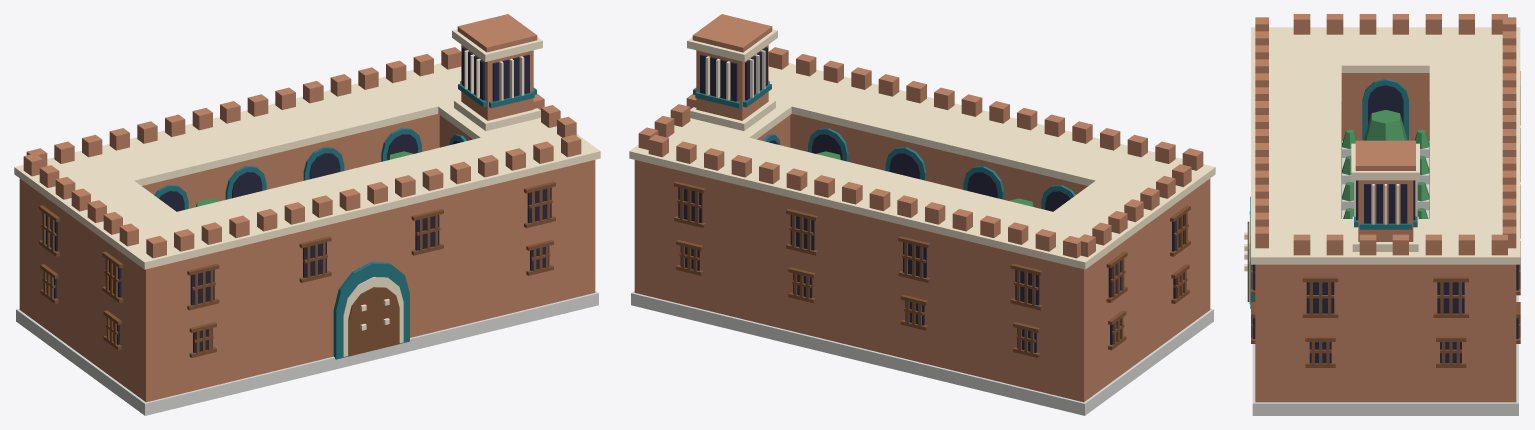
The model's file is house-2x1-2f-riad-a.glb.
3 renders of one model, left to right at view 1: azimuth 30°, elevation 25°; view 2: azimuth 150°, elevation 25°; view 3: azimuth 270°, elevation 25°, orthographic. The views are drawn at different scales.
Parts seen in each view (by area): view 1: house-2x1-2f-riad-a; view 2: house-2x1-2f-riad-a; view 3: house-2x1-2f-riad-a.
Part boxes in pixels (<box>): house-2x1-2f-riad-a: <box>14,14,600,415</box>; house-2x1-2f-riad-a: <box>629,14,1215,415</box>; house-2x1-2f-riad-a: <box>1244,14,1520,415</box>.
Bounding box in the file's own units: 1.98 × 0.98 × 1.01.
1 material, 1 textured.
